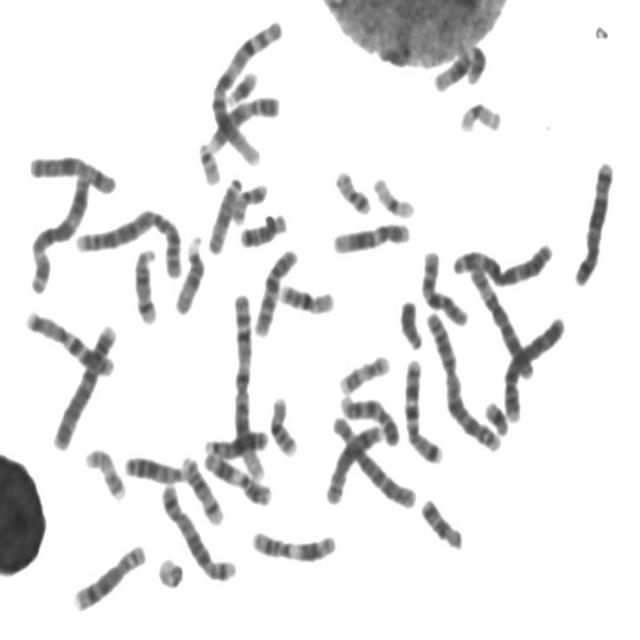A1: (206, 12, 286, 161), (228, 286, 269, 482)
A2: (422, 303, 506, 453), (71, 201, 188, 279)
A3: (24, 164, 94, 296), (448, 234, 557, 288)
B4: (49, 315, 120, 453), (498, 308, 568, 426)
B5: (156, 476, 240, 584), (570, 152, 618, 288)
C10: (250, 240, 302, 339), (417, 243, 471, 328)
C11: (200, 444, 276, 508), (247, 522, 339, 565)
C12: (429, 36, 490, 94), (328, 215, 414, 256)
C6: (328, 408, 419, 510), (465, 258, 538, 382)
C7: (21, 303, 117, 380), (399, 351, 447, 466)
C8: (68, 536, 150, 614), (321, 416, 388, 507)
C9: (205, 88, 283, 153), (335, 387, 403, 448)
D13: (200, 422, 272, 460), (120, 448, 191, 485)
D14: (177, 448, 226, 527), (130, 240, 162, 326)
D15: (203, 169, 245, 256), (170, 227, 208, 316)
E16: (265, 389, 302, 459), (274, 276, 338, 316)
E17: (81, 440, 130, 502), (334, 347, 394, 397)
E18: (416, 491, 466, 552), (236, 205, 290, 250)
F19: (369, 169, 418, 220), (455, 94, 505, 135)
F20: (330, 161, 375, 216), (228, 177, 270, 226)
G21: (222, 64, 261, 106), (481, 394, 512, 437)
G22: (194, 136, 224, 187), (151, 558, 188, 589)
X: (24, 147, 120, 196)
Y: (396, 292, 426, 351)
